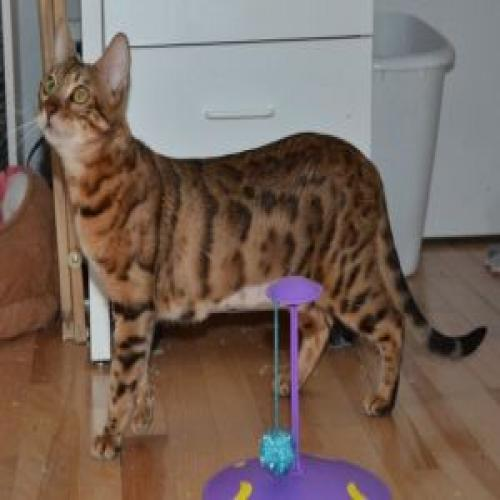cat-face: (30, 21, 137, 157)
